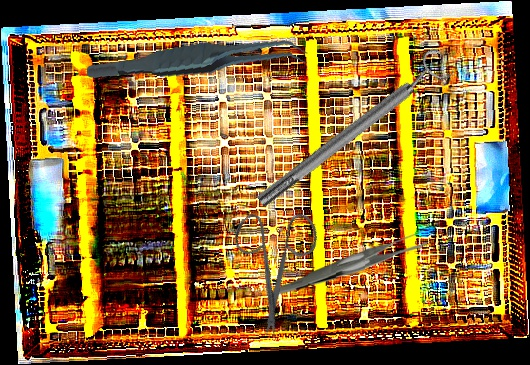Dressing Forceps: (271, 229, 430, 296)
Fixation Ring: (247, 44, 458, 217)
Iris Scissors: (202, 188, 355, 342)
Tissue Forceps: (85, 16, 310, 105)
